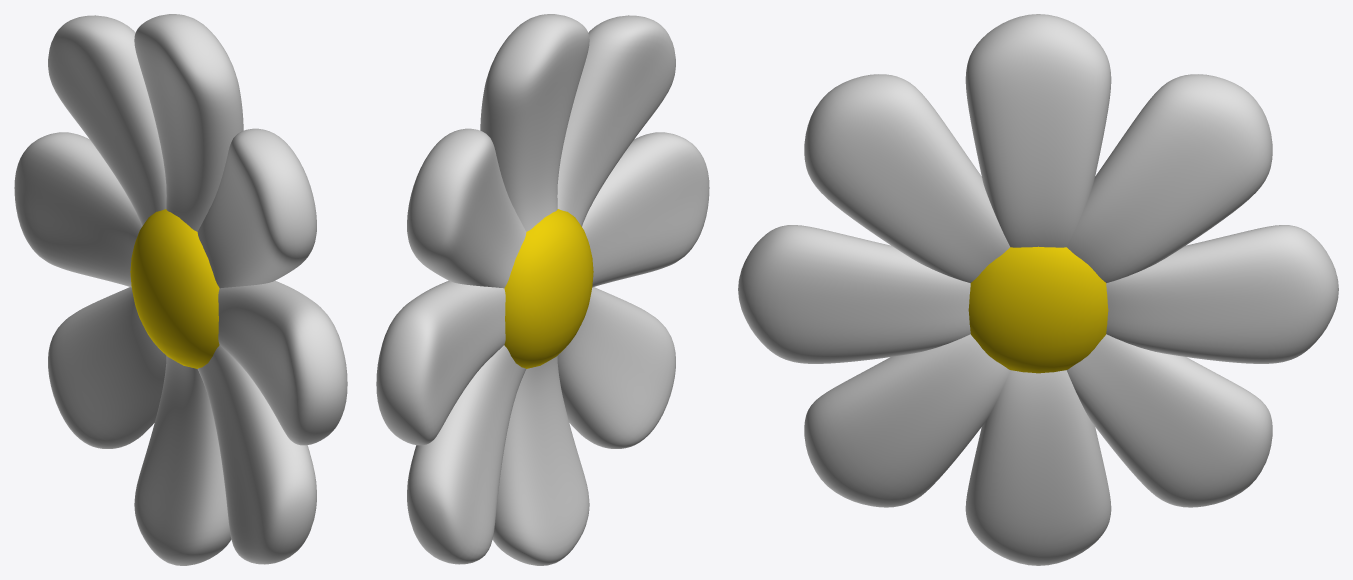
File: Flower.fbx
3 views of the same model, side by side, from view 1: azimuth 30°, elevation 25°; view 2: azimuth 150°, elevation 25°; view 3: azimuth 270°, elevation 25° (orthographic).
Parts seen in each view (by area): view 1: Petal, Petal.005, Petal.006, Petal.001, Petal.004, Petal.002, Petal.003, Petal.007, Cube; view 2: Petal, Petal.003, Petal.002, Petal.007, Petal.004, Petal.006, Petal.005, Petal.001, Cube; view 3: Petal, Petal.007, Petal.001, Petal.002, Petal.006, Petal.003, Petal.005, Petal.004, Cube.
Part boxes in pixels (bbox=[...]): Petal: bbox=[134, 14, 243, 231]; Petal.005: bbox=[197, 345, 316, 564]; Petal.006: bbox=[218, 280, 347, 445]; Petal.001: bbox=[48, 15, 166, 226]; Petal.004: bbox=[134, 356, 231, 565]; Petal.002: bbox=[14, 132, 141, 287]; Petal.003: bbox=[48, 287, 166, 448]; Petal.007: bbox=[197, 128, 316, 288]; Cube: bbox=[130, 209, 219, 368]; Petal: bbox=[480, 14, 589, 231]; Petal.003: bbox=[407, 345, 526, 564]; Petal.002: bbox=[376, 280, 505, 445]; Petal.007: bbox=[557, 15, 675, 226]; Petal.004: bbox=[492, 356, 589, 565]; Petal.006: bbox=[582, 132, 709, 287]; Petal.005: bbox=[557, 287, 675, 448]; Petal.001: bbox=[407, 128, 526, 288]; Cube: bbox=[504, 209, 593, 368]; Petal: bbox=[965, 14, 1111, 247]; Petal.007: bbox=[804, 74, 1009, 282]; Petal.001: bbox=[1067, 74, 1272, 282]; Petal.002: bbox=[1106, 225, 1338, 363]; Petal.006: bbox=[738, 225, 970, 363]; Petal.003: bbox=[1066, 334, 1272, 507]; Petal.005: bbox=[804, 334, 1010, 507]; Petal.004: bbox=[965, 370, 1111, 565]; Cube: bbox=[968, 246, 1108, 373].
Bounding box in the file's own units: 51.37 × 301 × 301.
